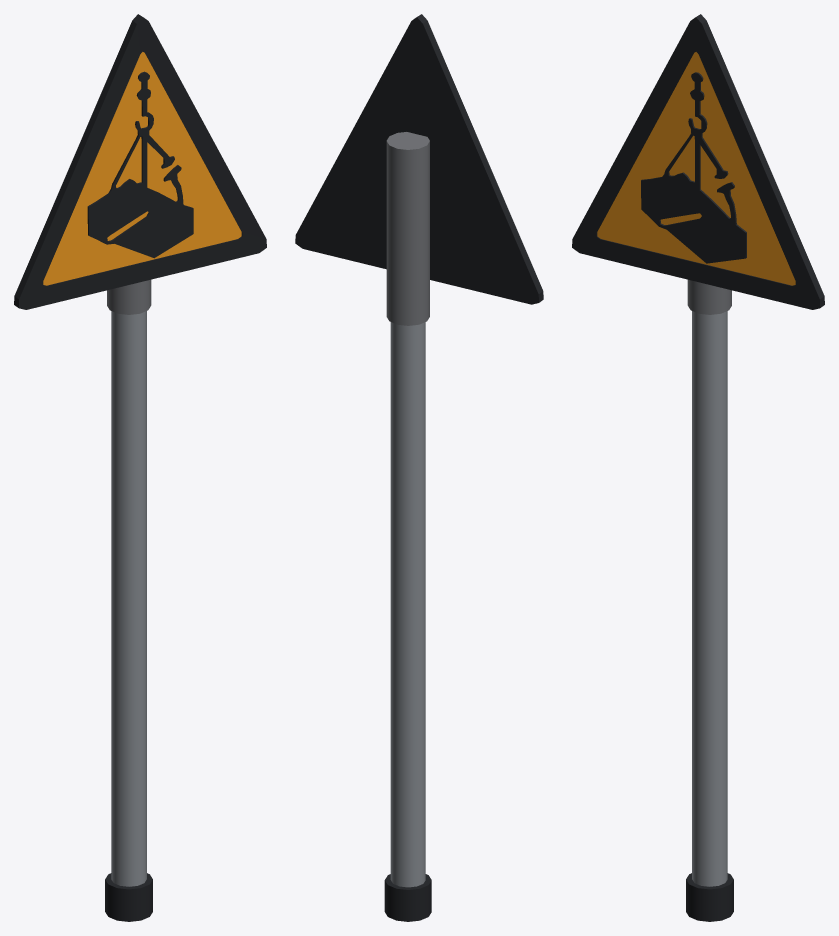
Rendered from TrafficSign_10.fbx.
3 renders of one model, left to right at view 1: azimuth 30°, elevation 25°; view 2: azimuth 150°, elevation 25°; view 3: azimuth 330°, elevation 25°, orthographic.
Visible parts, largest first — view 1: TrafficSign_10; view 2: TrafficSign_10; view 3: TrafficSign_10.
Boxes of the visible parts, x1,y1,x2,y2 form: TrafficSign_10: (14, 14, 266, 921); TrafficSign_10: (295, 14, 543, 921); TrafficSign_10: (572, 14, 824, 921).
Size of the model in its own units: 60.54 by 211 by 11.1.
